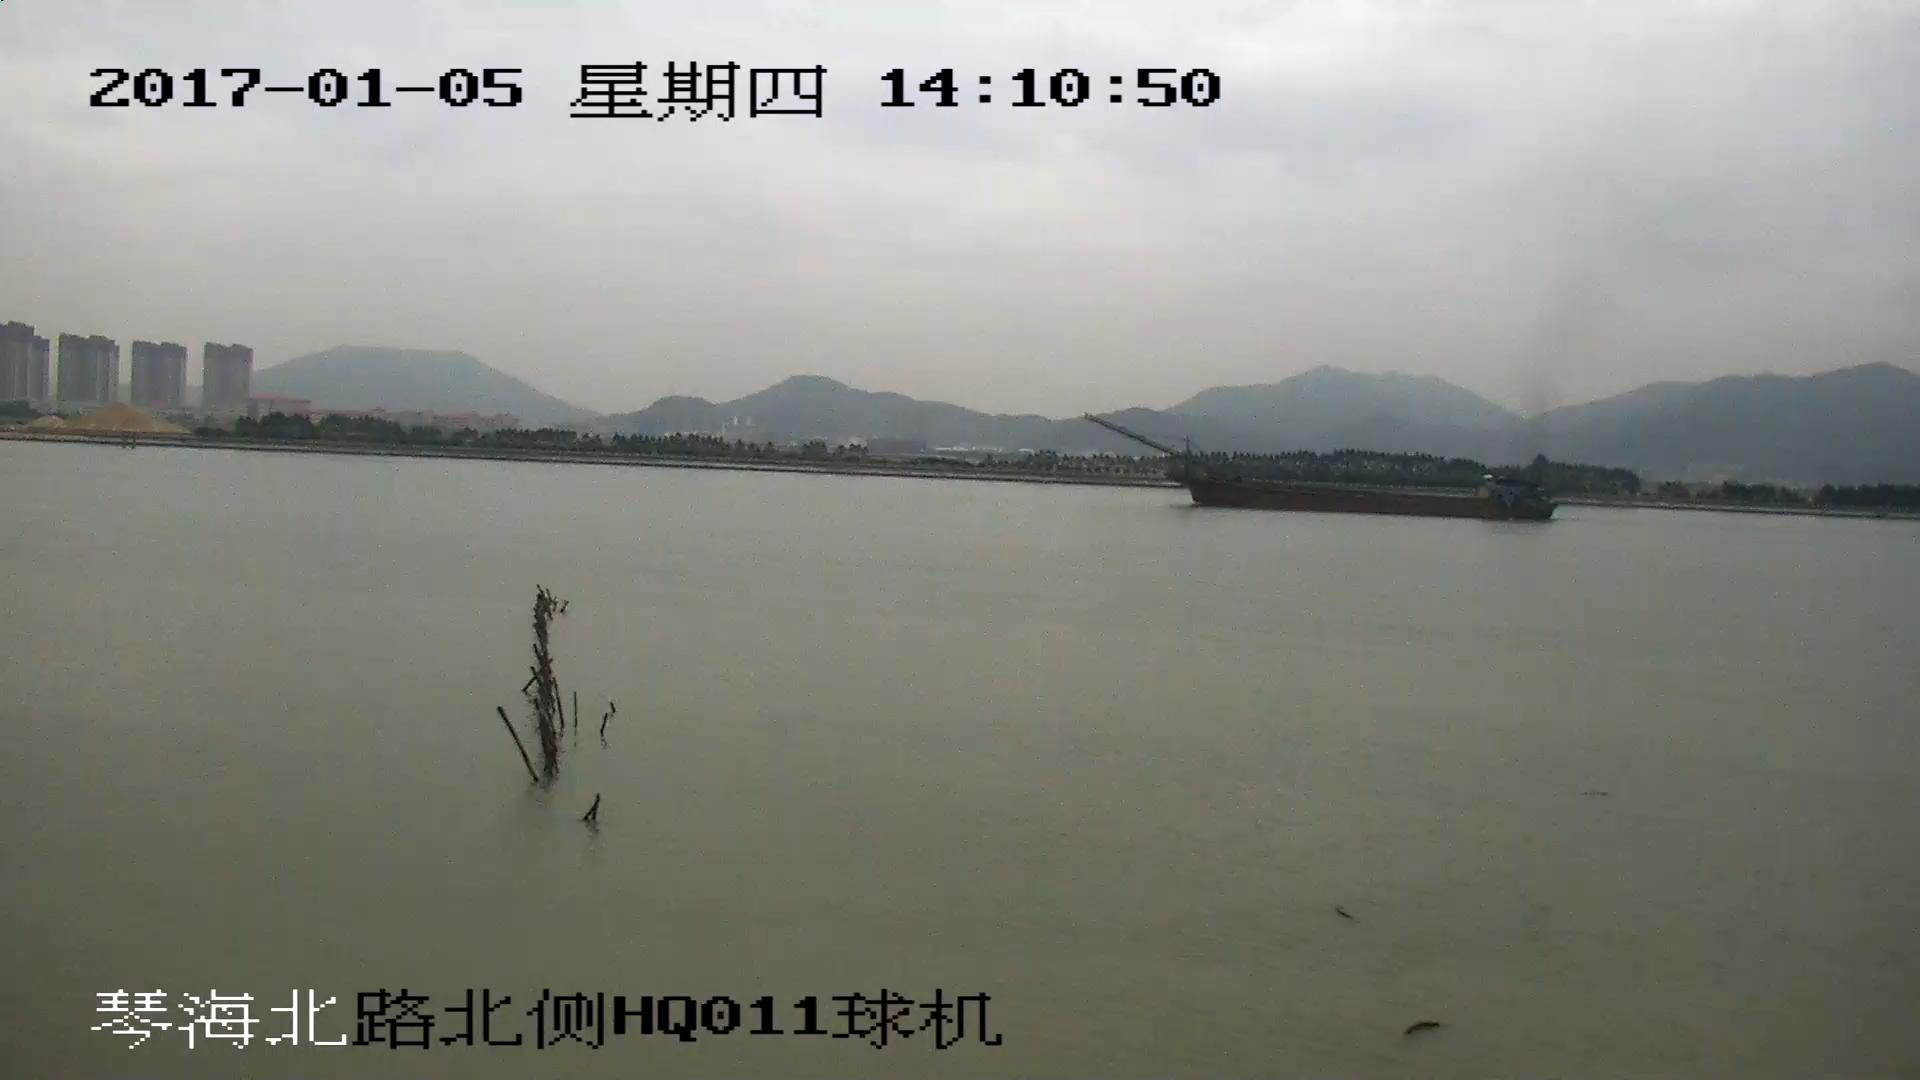Ship: (1087, 418, 1551, 521)
